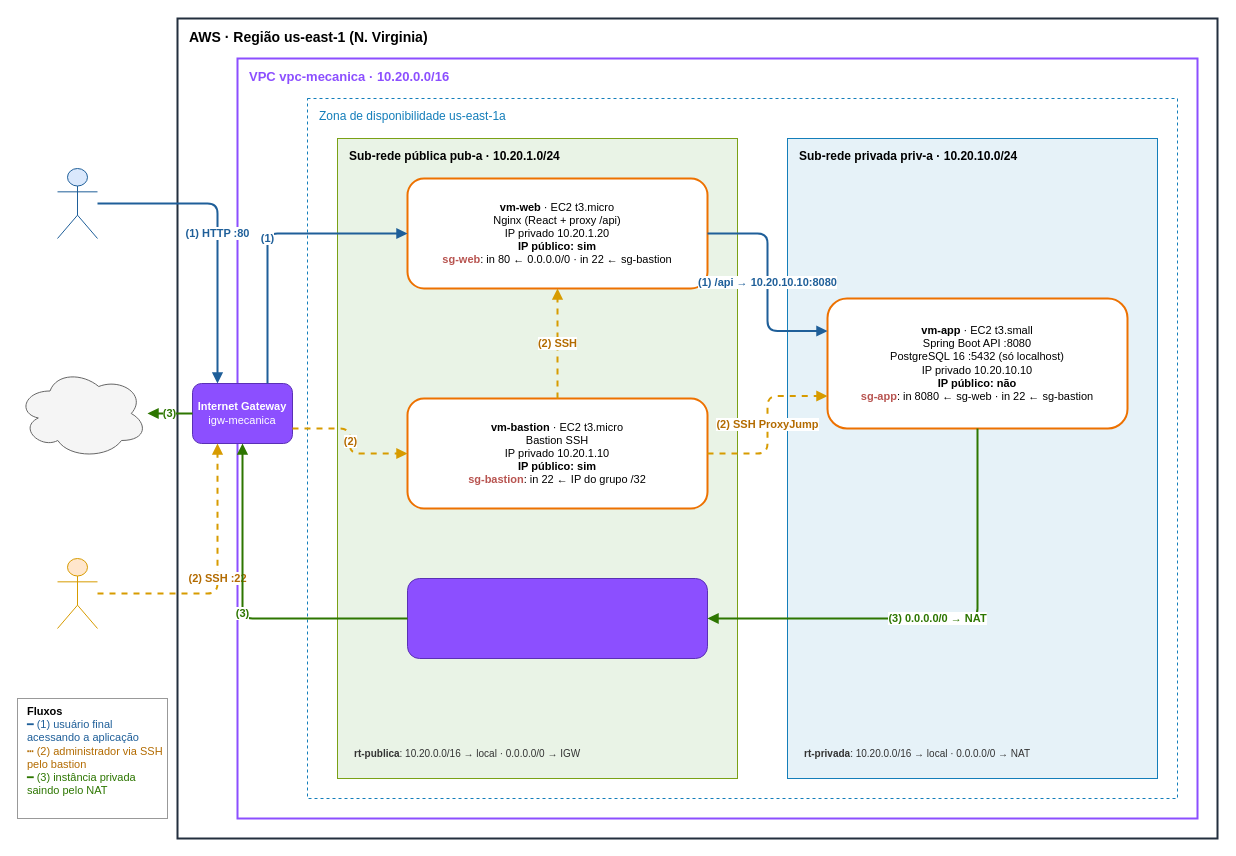
This 1236x856 diagram has some shape labels left out. The centre of each missing label's shape, as x and y in pixels:
"Administrador IP do integrante /32" goes at point (77, 593).
"Internet ghcr.io · apt" goes at point (82, 413).
"NAT Gateway (gerenciado) nat-mecanica Elastic IP: sim" goes at point (557, 618).
"Usuário final navegador" goes at point (77, 203).
